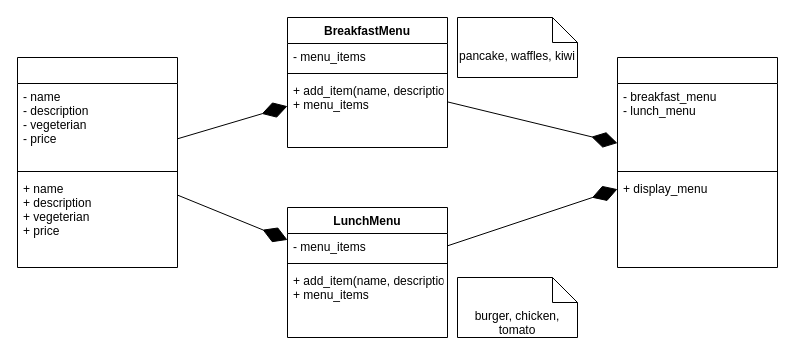
The diagram is 795 pixels wide and 358 high, and some of its shapes have lost their labels. Each missing label, with the box of its shape:
MenuItem: (16, 56, 178, 268)
Waiter: (616, 56, 778, 268)
